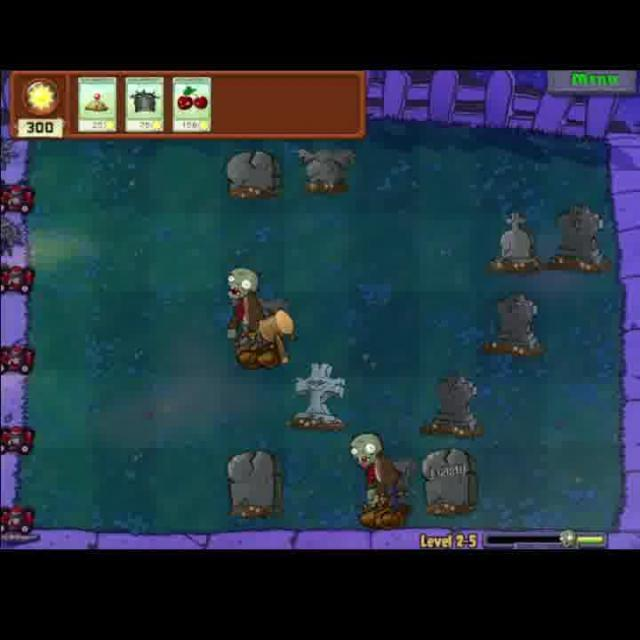zombies: (344, 430, 402, 522), (220, 264, 272, 366)
